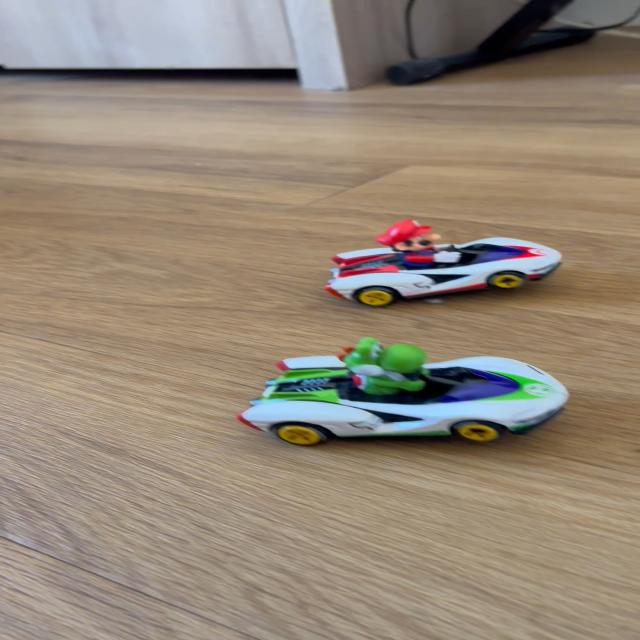mario: (313, 218, 572, 308)
yoshi: (227, 331, 588, 452)
